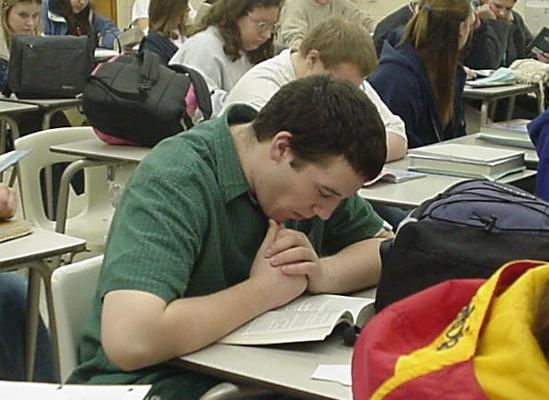person: (65, 74, 398, 400)
